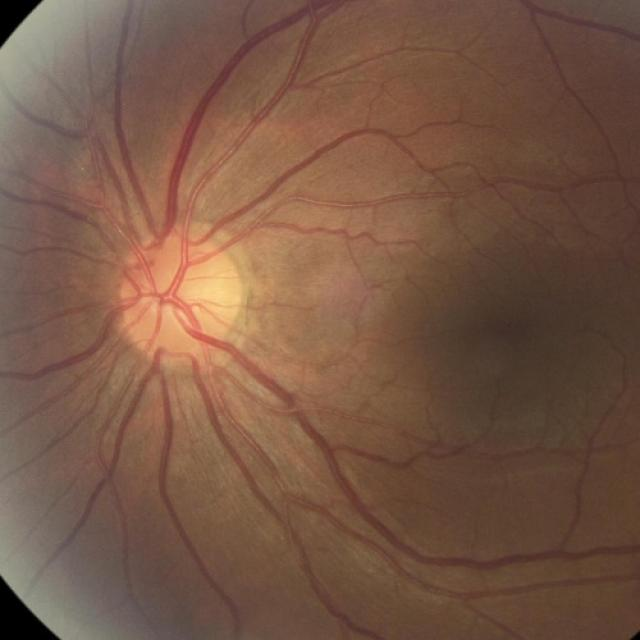OD: (119, 226, 246, 363)
